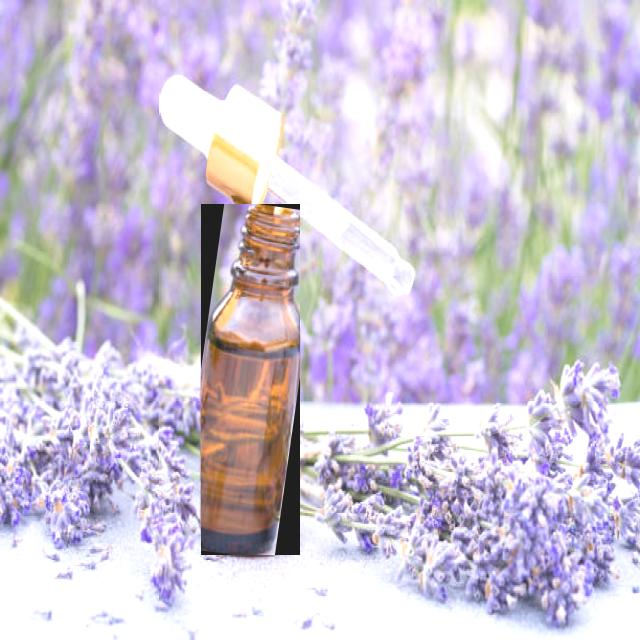Bottle: (200, 204, 299, 555)
